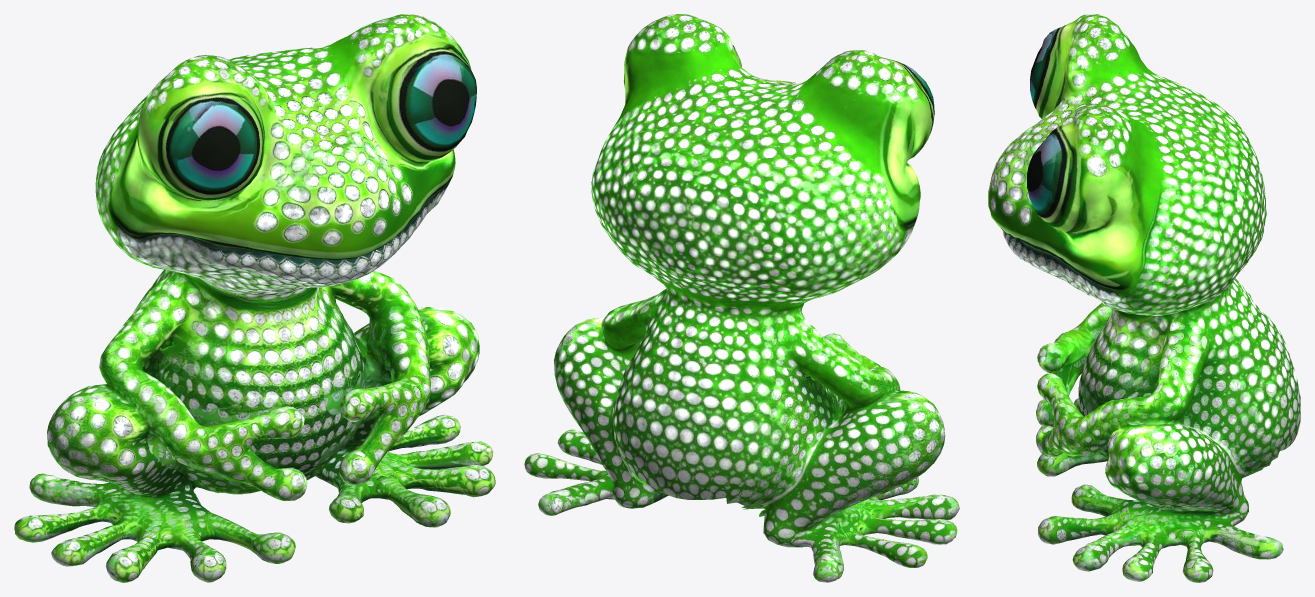
File: frog_bling_v1.glb
3 views of the same model, side by side, from view 1: azimuth 30°, elevation 25°; view 2: azimuth 150°, elevation 25°; view 3: azimuth 270°, elevation 25° (orthographic). The views are drawn at different scales.
Bounding box in the file's own units: 1.77 × 1.9 × 1.23.
Materials: 1 (1 with a texture image).
